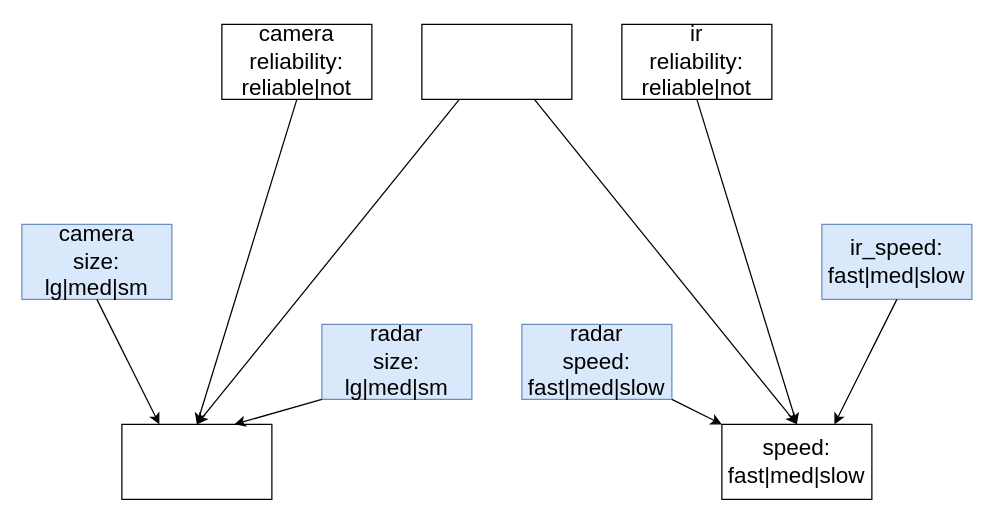
This 994x521 diagram has some shape labels left out. Each missing label, with the box of its shape:
radar reliability: reliable|not: (421, 23, 572, 99)
size: lg|med|small: (121, 423, 272, 499)
